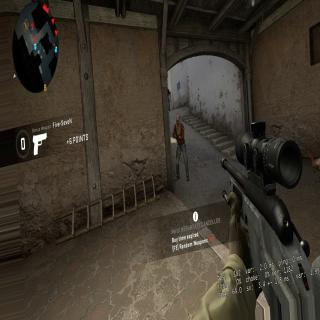T-Body: (172, 114, 190, 180), (168, 87, 171, 110)
T-Head: (175, 115, 180, 125)
